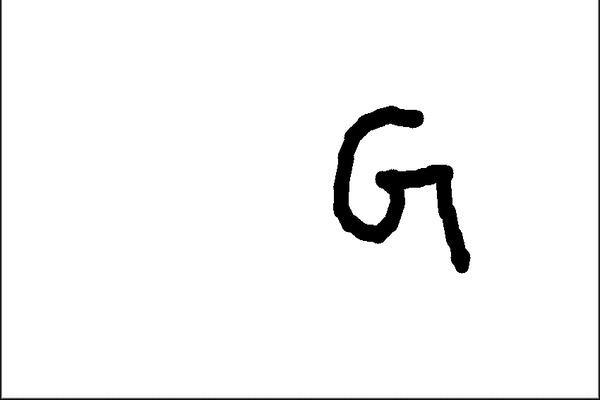G: (329, 103, 475, 277)
